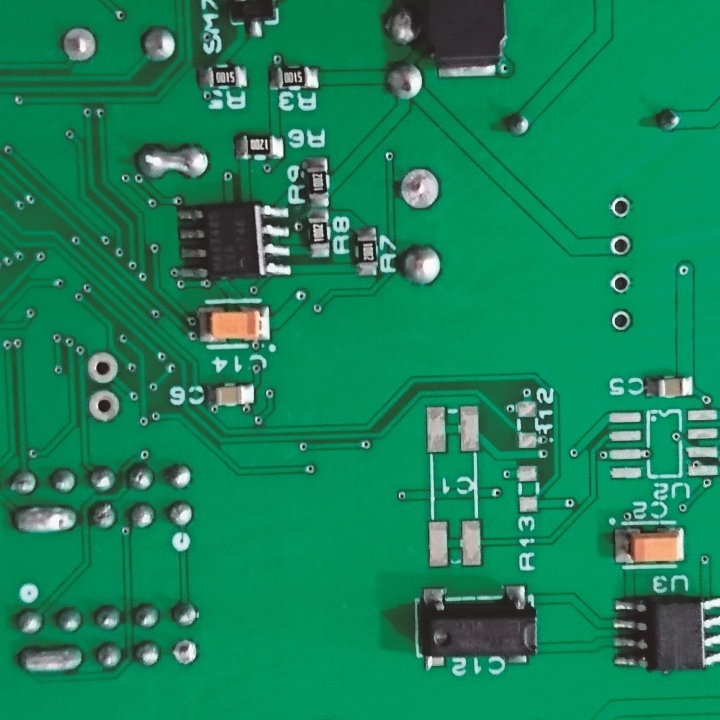F: (399, 169, 442, 212), (58, 26, 99, 63), (84, 350, 124, 386), (85, 389, 124, 422), (173, 636, 201, 671), (604, 311, 637, 334), (608, 235, 636, 261), (609, 194, 635, 220), (610, 272, 636, 295)
P: (134, 142, 213, 180), (16, 645, 88, 677), (12, 504, 81, 534)
